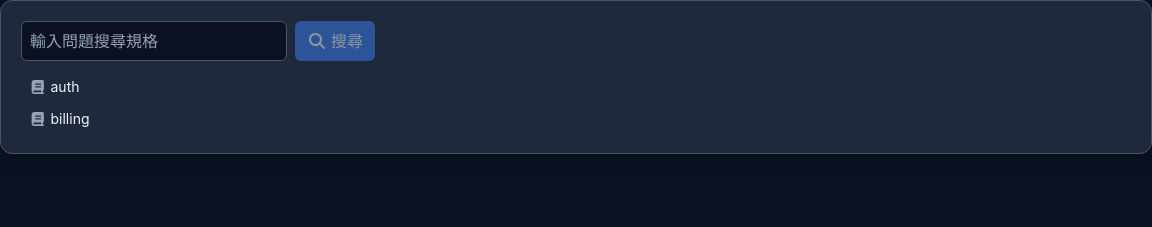
Test: ExistingSpecs › 既有 Spec 分頁列出每個 domain 並可檢視其規格內容
Click the button "auth" at (38, 87), box [21,73,1131,101]
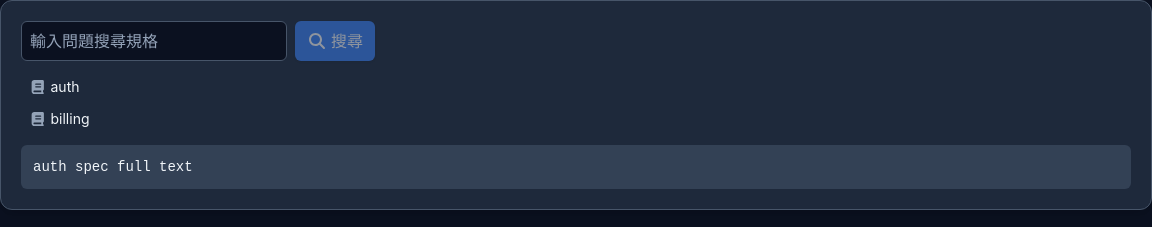
Now the text with class "spec-content" reads "auth spec full text", box [33,159,193,175]
